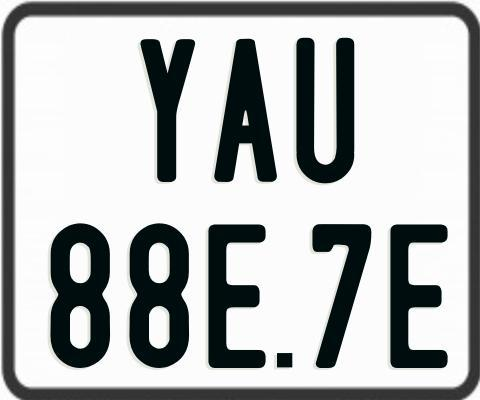7: (312, 223, 376, 367)
8: (127, 223, 188, 372), (48, 221, 108, 369)
A: (214, 36, 283, 184)
E: (387, 224, 451, 373), (208, 225, 266, 371)
U: (295, 38, 354, 187)
Y: (138, 36, 194, 182)
